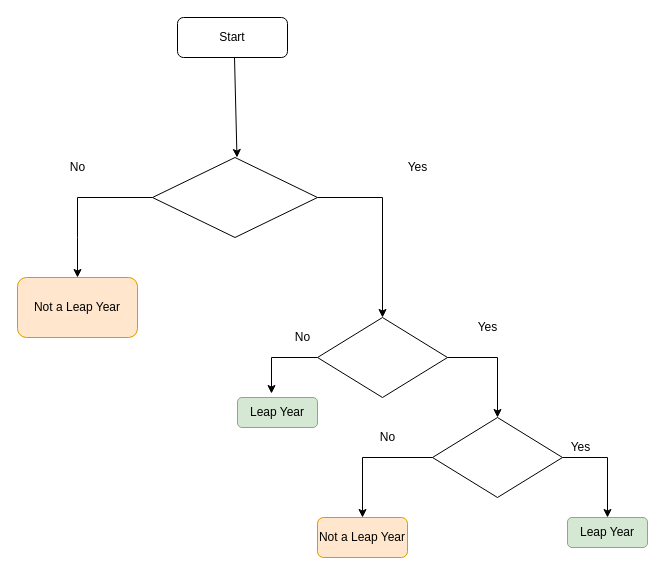
The diagram is 665 pixels wide and 575 high, and some of its shapes have lost their labels. The shapes that lost their labels are listed below. From the top down, each one's centre as x and y in pixels, then its label:
point 235,197: Year % 4 == 0
point 382,357: Year % 100 == 0
point 497,457: Year % 400 == 0
